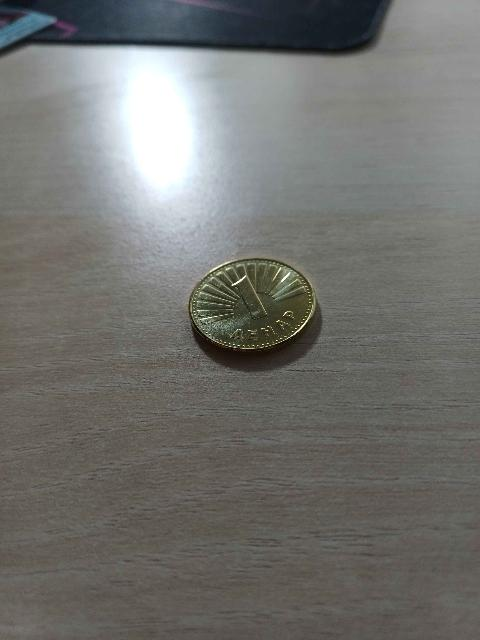1_coin: (189, 259, 315, 352)
